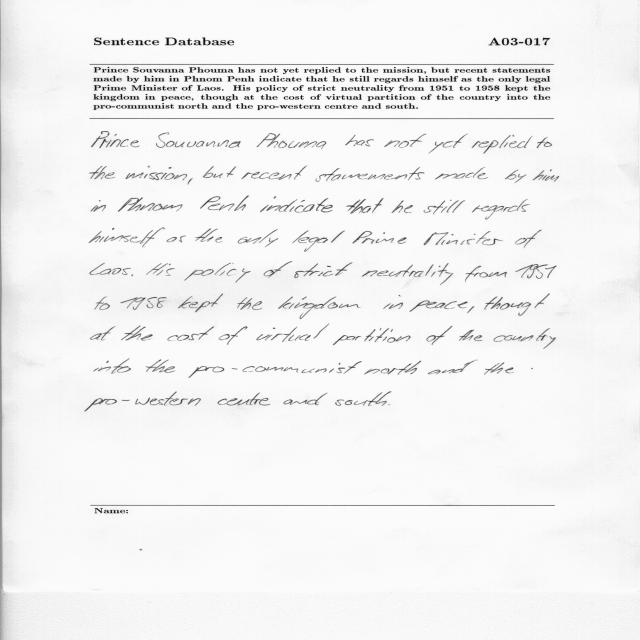word: (189, 361, 362, 378), (85, 392, 201, 412), (362, 263, 453, 285), (278, 296, 361, 319), (316, 167, 425, 182), (484, 293, 550, 316), (89, 228, 165, 247), (156, 132, 241, 148), (184, 263, 251, 283), (256, 324, 329, 342), (333, 328, 410, 345), (494, 328, 556, 349), (260, 196, 333, 213), (292, 230, 345, 252), (472, 199, 530, 219), (472, 135, 533, 154), (424, 232, 503, 246), (257, 133, 326, 149), (118, 197, 183, 212), (294, 262, 353, 278), (242, 166, 307, 180), (126, 166, 187, 180), (92, 132, 140, 149), (178, 294, 223, 312), (364, 361, 421, 375), (335, 392, 391, 406), (428, 360, 478, 375), (429, 134, 468, 153), (200, 196, 249, 211), (238, 229, 278, 247), (168, 326, 215, 341), (353, 231, 407, 244), (218, 393, 270, 406), (465, 266, 507, 282), (410, 301, 468, 312), (435, 167, 488, 179), (515, 264, 557, 279), (424, 200, 465, 215), (121, 297, 167, 310), (346, 198, 383, 214), (384, 134, 426, 148), (94, 359, 131, 374), (219, 326, 248, 345), (284, 393, 328, 405), (121, 325, 153, 341), (427, 326, 453, 345), (90, 263, 131, 275), (515, 230, 542, 248), (264, 262, 292, 278), (195, 228, 223, 243), (146, 359, 175, 373), (203, 166, 236, 178), (484, 362, 514, 375), (146, 263, 175, 276), (90, 326, 116, 340), (89, 166, 115, 179), (533, 169, 559, 182), (237, 297, 263, 310), (345, 135, 374, 146), (391, 200, 413, 213), (383, 295, 403, 309), (505, 170, 526, 183), (459, 330, 482, 341), (95, 296, 110, 310), (91, 200, 106, 212), (537, 137, 552, 148), (166, 236, 186, 243), (467, 306, 474, 313), (188, 178, 193, 184), (132, 275, 134, 277), (389, 404, 390, 405)
